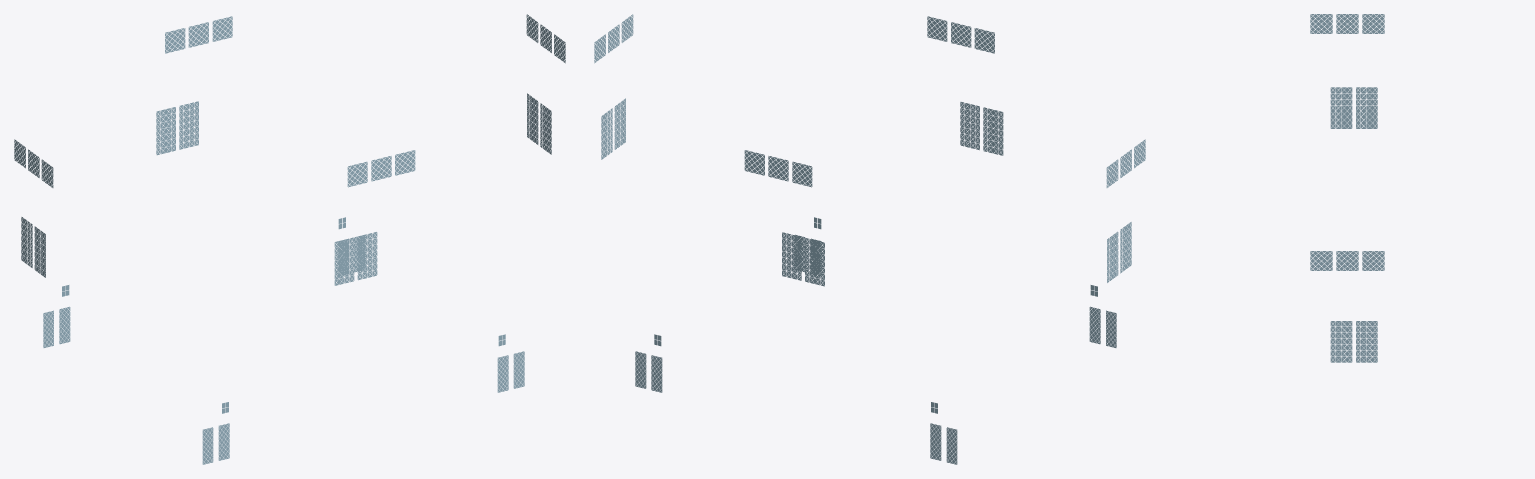
Rendered from FairyTale176.gltf.
3 renders of one model, left to right at view 1: azimuth 30°, elevation 25°; view 2: azimuth 150°, elevation 25°; view 3: azimuth 270°, elevation 25°, orthographic. The views are drawn at different scales.
Parts seen in each view (by area): view 1: GateHouseLG_Glass; view 2: GateHouseLG_Glass; view 3: GateHouseLG_Glass.
Boxes of the visible parts, <box> form: GateHouseLG_Glass: <box>14,14,565,464</box>; GateHouseLG_Glass: <box>594,14,1145,464</box>; GateHouseLG_Glass: <box>1310,14,1384,362</box>.
Bounding box in the file's own units: 11.42 × 5.86 × 7.05.
